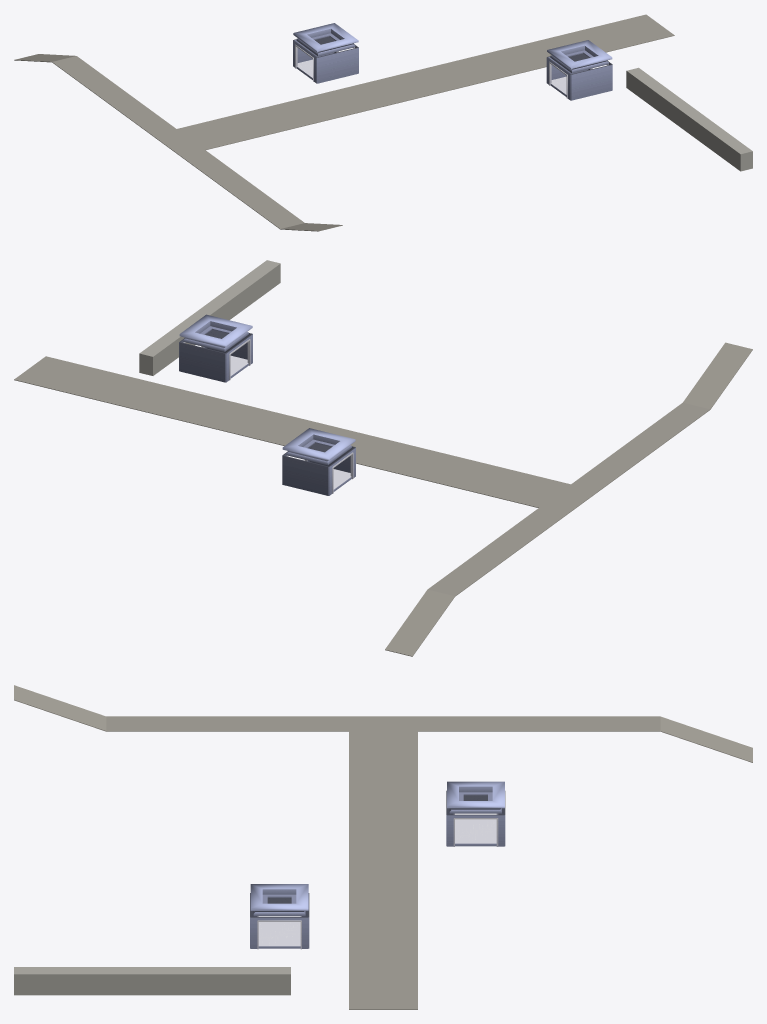
The model's file is town-2-1.glb.
3 views of the same model, one above another, from view 1: azimuth 30°, elevation 25°; view 2: azimuth 150°, elevation 25°; view 3: azimuth 270°, elevation 25° (orthographic). The views are drawn at different scales.
Parts seen in each view (by area): view 1: town-2-1; view 2: town-2-1; view 3: town-2-1.
Part boxes in pixels (x1,y1,x2,y2): town-2-1: (14, 14, 752, 231); town-2-1: (14, 260, 752, 656); town-2-1: (14, 685, 752, 1009).
Size of the model in its own units: 120 by 13.7 by 128.
19 materials, 16 textured.
